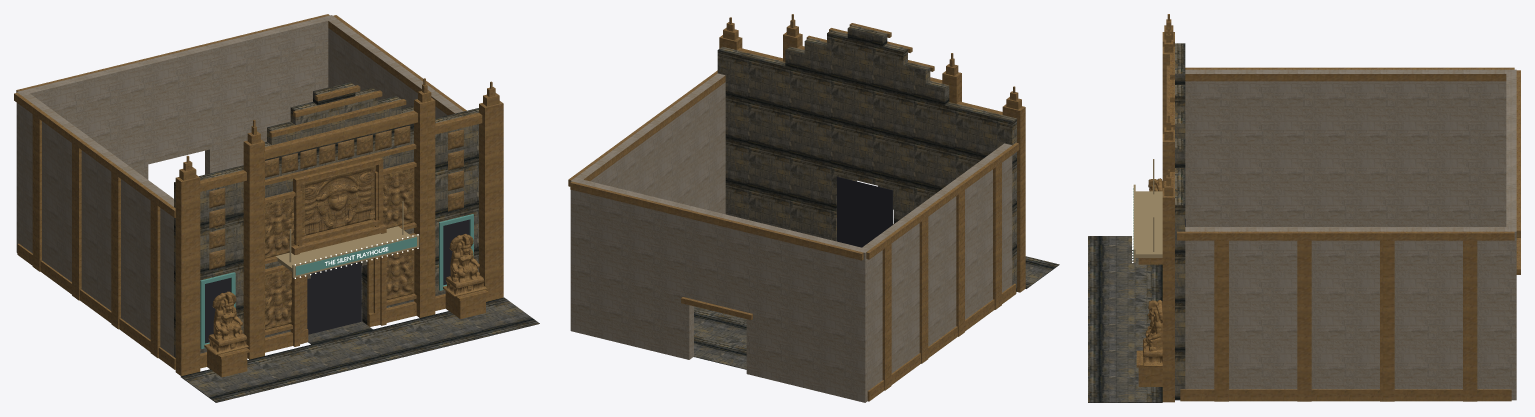
The model's file is mayan-theatre.glb.
The picture shows the model from 3 angles, left to right: view 1: azimuth 30°, elevation 25°; view 2: azimuth 150°, elevation 25°; view 3: azimuth 270°, elevation 25°; orthographic projection. The views are drawn at different scales.
Visible parts, largest first — view 1: theatre_brick, theatre_carved, theatre_ashlar, theatre_floor, merged_relief_guardian-panel, theatre_shadow, merged_relief_mask, relief_sun, merged_old_sandstone_02, theatre_jade, theatre_bronze; view 2: theatre_brick, theatre_ashlar, theatre_carved, theatre_floor, theatre_shadow; view 3: theatre_brick, theatre_carved, theatre_floor, theatre_ashlar, theatre_bronze, merged_old_sandstone_02.
Part boxes in pixels (box(x1,y1,x2,y2)): theatre_brick: box(16, 15, 463, 356); theatre_carved: box(14, 14, 503, 377); theatre_ashlar: box(174, 82, 478, 357); theatre_floor: box(180, 266, 539, 402); merged_relief_guardian-panel: box(265, 167, 414, 329); theatre_shadow: box(205, 219, 469, 343); merged_relief_mask: box(209, 125, 463, 269); relief_sun: box(300, 165, 375, 236); merged_old_sandstone_02: box(205, 233, 487, 355); theatre_jade: box(200, 214, 473, 348); theatre_bronze: box(275, 201, 419, 277); theatre_brick: box(570, 73, 1012, 402); theatre_ashlar: box(717, 25, 1016, 291); theatre_carved: box(568, 14, 1025, 401); theatre_floor: box(694, 224, 1059, 369); theatre_shadow: box(837, 176, 892, 247); theatre_brick: box(1185, 69, 1516, 400); theatre_carved: box(1136, 14, 1520, 402); theatre_floor: box(1088, 236, 1162, 402); theatre_ashlar: box(1175, 43, 1185, 400); theatre_bronze: box(1133, 159, 1162, 262); merged_old_sandstone_02: box(1143, 178, 1162, 366).
Bounding box in the file's own units: 19 × 13.62 × 20.9.
12 materials, 7 textured.
